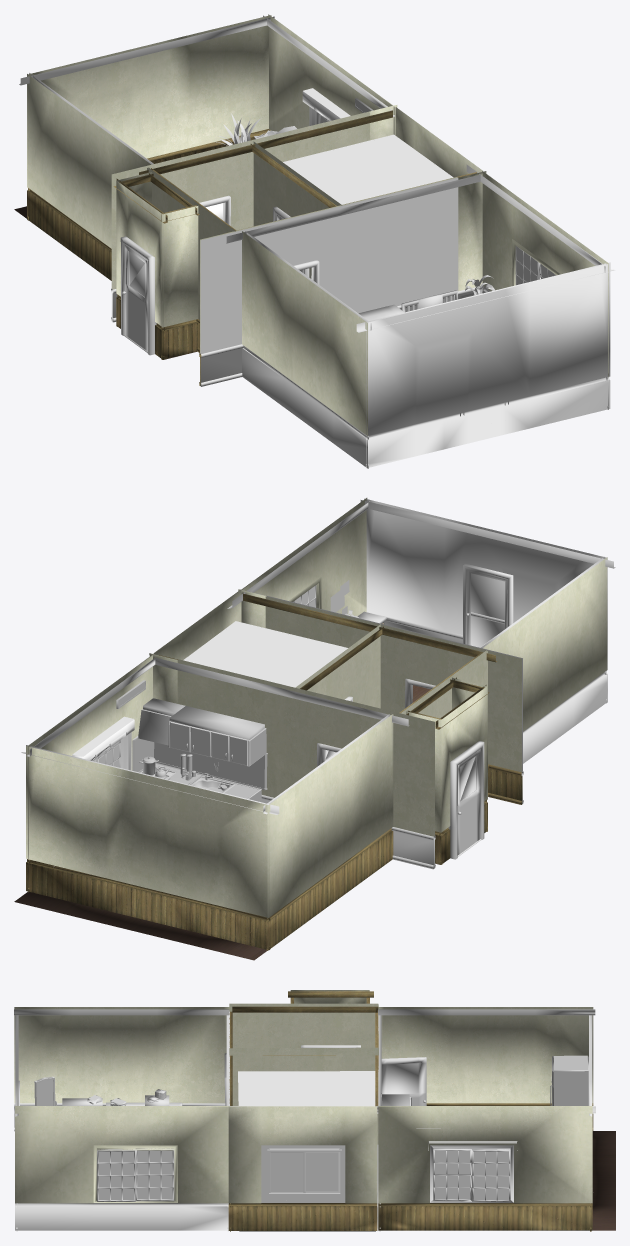
File: stage.glb
The picture shows the model from 3 angles, top to bottom: view 1: azimuth 30°, elevation 25°; view 2: azimuth 150°, elevation 25°; view 3: azimuth 270°, elevation 25°; orthographic projection. The views are drawn at different scales.
Parts seen in each view (by area): view 1: KORE_export_Naruto_Room_Wall10, KORE_export_Naruto_Room_Door_Hinges03.001, KORE_export_Naruto_Room_Crown_Moulding09, KORE_export_25_Mesh46_0_0_0, KORE_export_Stage_mesh.001; view 2: KORE_export_Naruto_Room_Wall10, KORE_export_Naruto_Room_Door_Hinges03.001, KORE_export_Naruto_Room_Crown_Moulding09, KORE_export_Model001_Material037_Model001_Material037_Model0, KORE_export_25_Mesh46_0_0_0, KORE_export_Naruto_Room_Floor03, KORE_export_Stage_mesh.001; view 3: KORE_export_Naruto_Room_Wall10, KORE_export_Naruto_Room_Door_Hinges03.001, KORE_export_Naruto_Room_Crown_Moulding09, KORE_export_25_Mesh46_0_0_0, KORE_export_Naruto_Room_Floor03, KORE_export_Model001_Material037_Model001_Material037_Model0, KORE_export_Naruto_Room_Curtains01.
Part boxes in pixels (x1,y1,x2,y2): KORE_export_Naruto_Room_Wall10: (27,14,608,435); KORE_export_Naruto_Room_Door_Hinges03.001: (19,15,614,468); KORE_export_Naruto_Room_Crown_Moulding09: (27,110,476,385); KORE_export_25_Mesh46_0_0_0: (283,134,453,204); KORE_export_Stage_mesh.001: (205,88,350,219); KORE_export_Naruto_Room_Wall10: (26,498,607,918); KORE_export_Naruto_Room_Door_Hinges03.001: (21,498,615,869); KORE_export_Naruto_Room_Crown_Moulding09: (26,593,522,950); KORE_export_Model001_Material037_Model001_Material037_Model0: (116,610,359,802); KORE_export_25_Mesh46_0_0_0: (183,621,347,687); KORE_export_Naruto_Room_Floor03: (14,685,440,960); KORE_export_Stage_mesh.001: (72,716,250,766); KORE_export_Naruto_Room_Wall10: (14,990,593,1203); KORE_export_Naruto_Room_Door_Hinges03.001: (14,1009,595,1231); KORE_export_Naruto_Room_Crown_Moulding09: (228,991,593,1231); KORE_export_25_Mesh46_0_0_0: (238,1071,375,1193); KORE_export_Naruto_Room_Floor03: (592,1131,615,1230); KORE_export_Model001_Material037_Model001_Material037_Model0: (381,1055,588,1128); KORE_export_Naruto_Room_Curtains01: (34,1076,56,1105).
Bounding box in the file's own units: 8.73 × 4.26 × 18.
8 materials, 4 textured.
